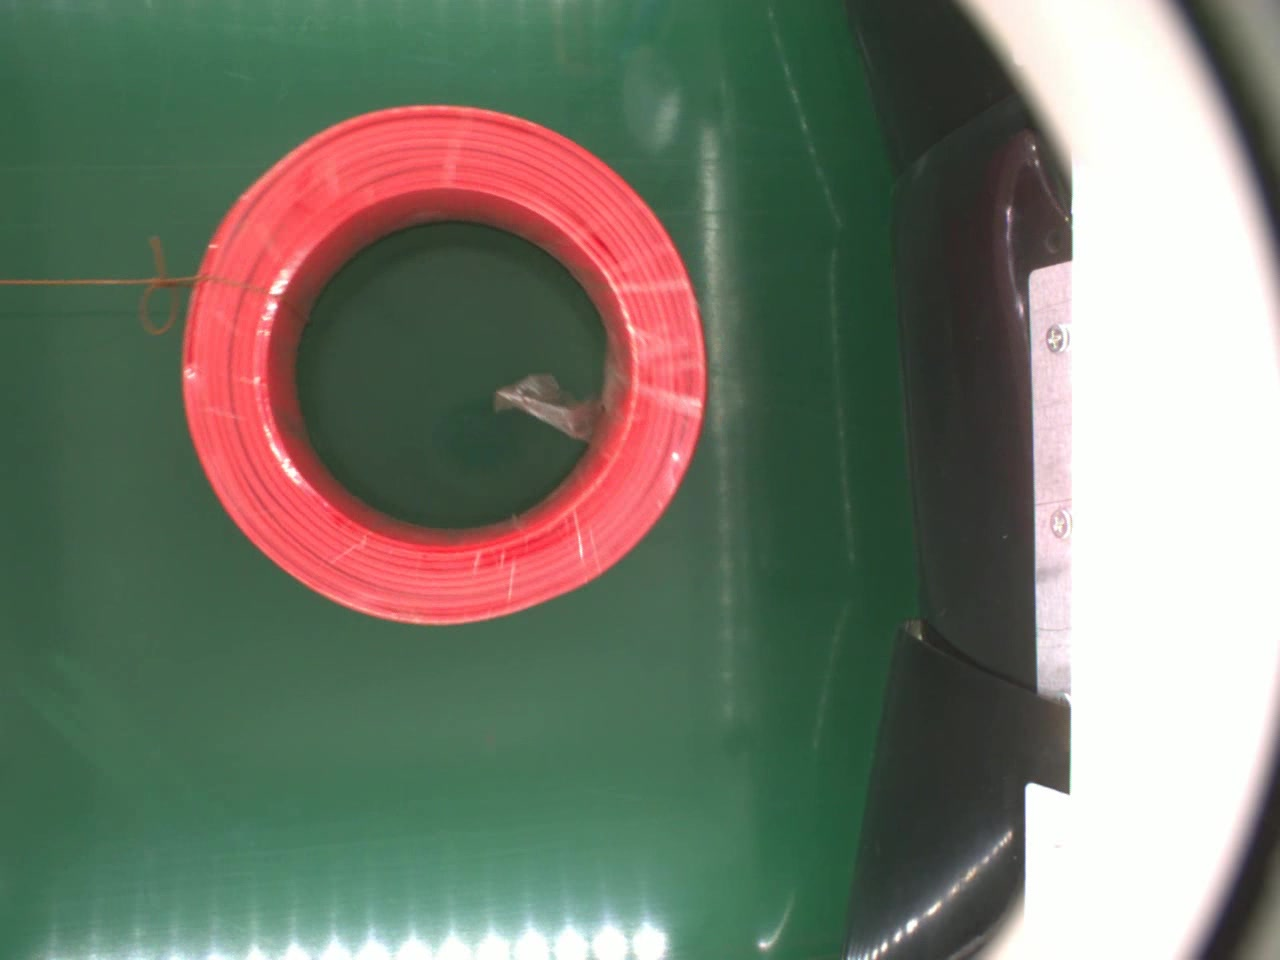red: (177, 103, 710, 629)
